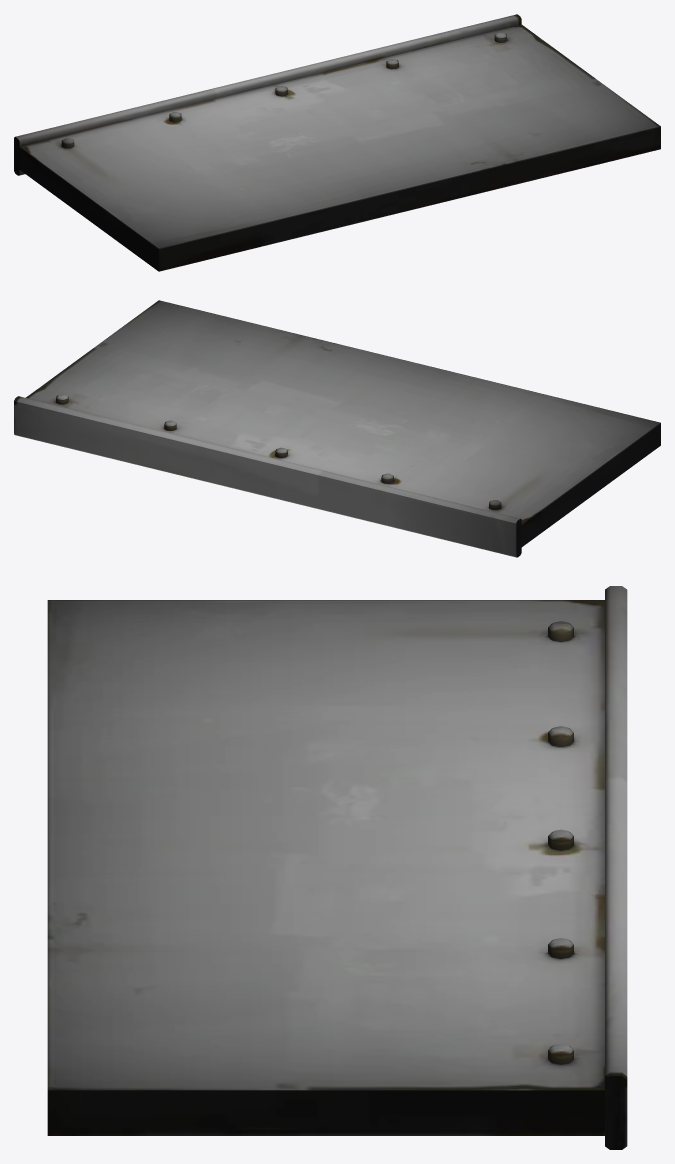
3 renders of one model, top to bottom at view 1: azimuth 30°, elevation 25°; view 2: azimuth 150°, elevation 25°; view 3: azimuth 270°, elevation 25°, orthographic. The views are drawn at different scales.
Visible parts, largest first — view 1: body0_model0_lod0_mesh0; view 2: body0_model0_lod0_mesh0; view 3: body0_model0_lod0_mesh0.
Part boxes in pixels (x1,y1,x2,y2): body0_model0_lod0_mesh0: (14, 14, 660, 271); body0_model0_lod0_mesh0: (14, 300, 660, 557); body0_model0_lod0_mesh0: (47, 586, 627, 1149).
Size of the model in its own units: 192 by 13.5 by 95.96.
1 material, 1 textured.
